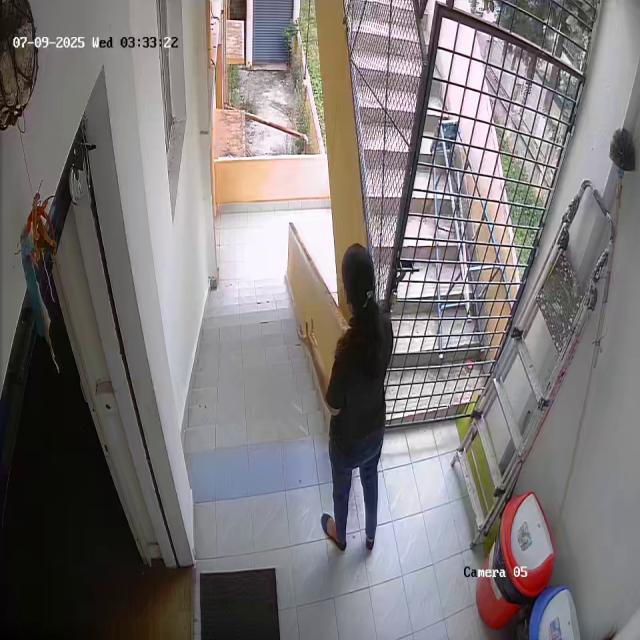person: (316, 239, 399, 558)
